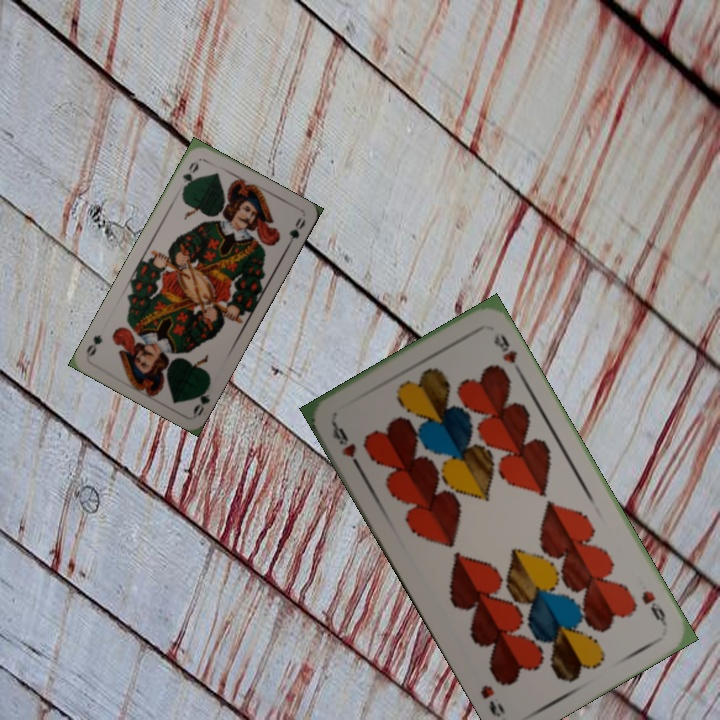GO: (189, 379, 213, 418), (178, 157, 202, 194)
H9: (327, 417, 363, 472), (637, 586, 670, 629)
